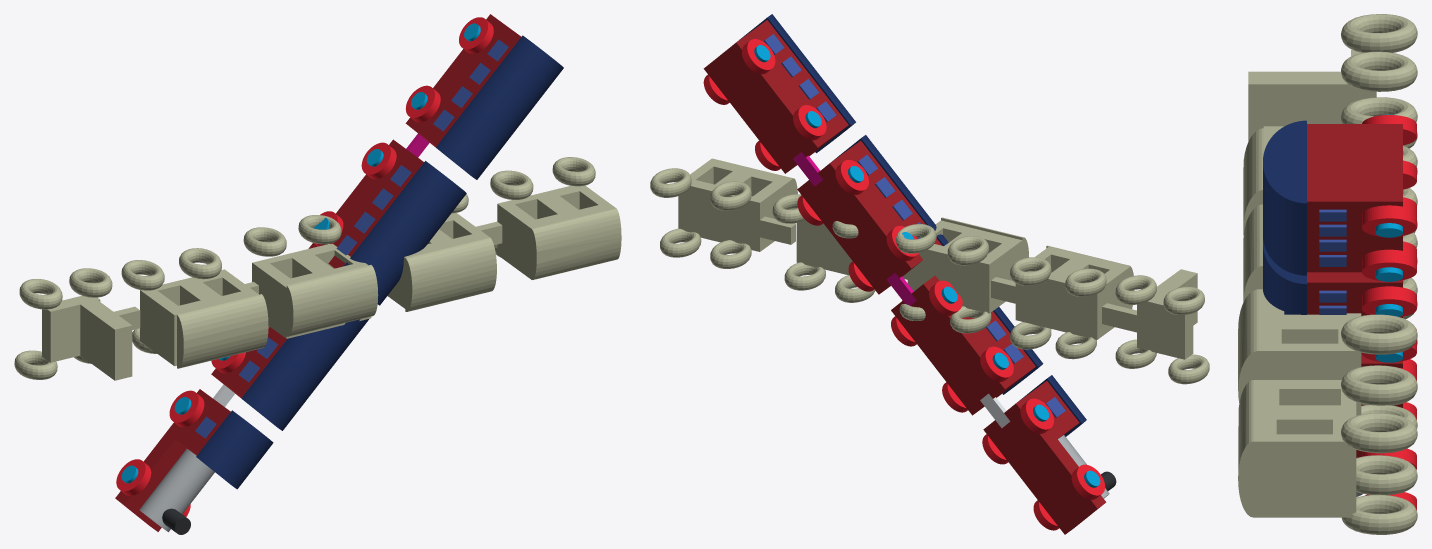
File: tinker.obj
3 views of the same model, side by side, from view 1: azimuth 30°, elevation 25°; view 2: azimuth 150°, elevation 25°; view 3: azimuth 270°, elevation 25° (orthographic). The views are drawn at different scales.
Visible parts, largest first — view 1: group_0_11909273, group_0_1650274, group_0_9771553, group_0_15277357, group_0_3888547, group_0_10988977, group_0_40919; view 2: group_0_11909273, group_0_9771553, group_0_15277357, group_0_1650274, group_0_3888547, group_0_40919, group_0_14093196; view 3: group_0_11909273, group_0_9771553, group_0_1650274, group_0_15277357, group_0_3888547, group_0_40919.
Part boxes in pixels (x1,y1,x2,y2): group_0_11909273: (14, 157, 621, 380); group_0_1650274: (196, 35, 563, 489); group_0_9771553: (115, 14, 520, 531); group_0_15277357: (116, 17, 493, 516); group_0_3888547: (195, 39, 508, 438); group_0_10988977: (139, 449, 214, 532); group_0_40919: (121, 23, 480, 483); group_0_11909273: (650, 158, 1209, 384); group_0_9771553: (703, 20, 1106, 534); group_0_15277357: (703, 39, 1105, 530); group_0_1650274: (737, 14, 1086, 436); group_0_3888547: (764, 34, 1065, 417); group_0_40919: (754, 45, 1100, 487); group_0_14093196: (793, 152, 916, 305); group_0_11909273: (1238, 14, 1417, 534); group_0_9771553: (1307, 124, 1402, 457); group_0_1650274: (1263, 120, 1306, 314); group_0_15277357: (1362, 115, 1416, 510); group_0_3888547: (1319, 209, 1346, 314); group_0_40919: (1375, 114, 1402, 362).
Size of the model in its own units: 192 by 138 by 35.
